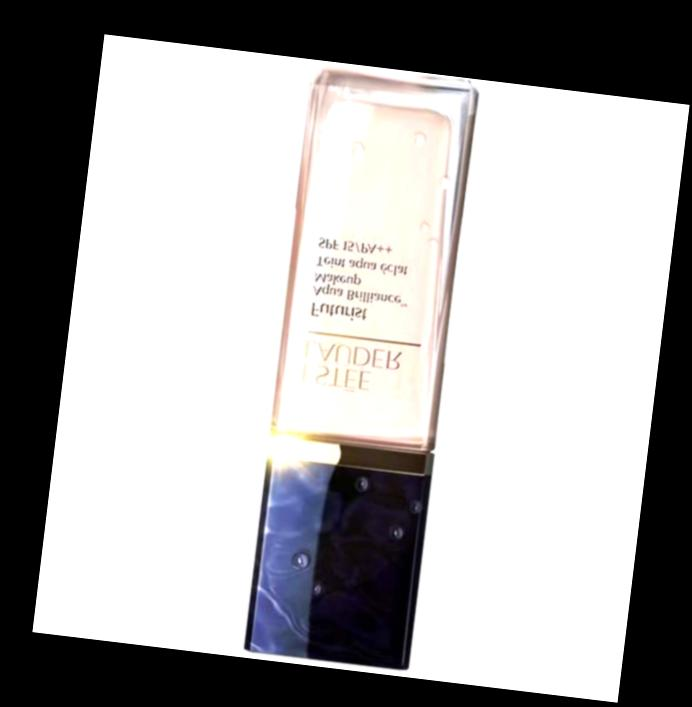cosmetic: (241, 62, 482, 672)
